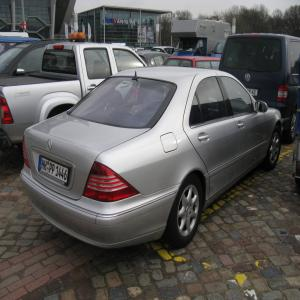Vehicle-registration-plate: (40, 160, 73, 188), (237, 87, 259, 97)
